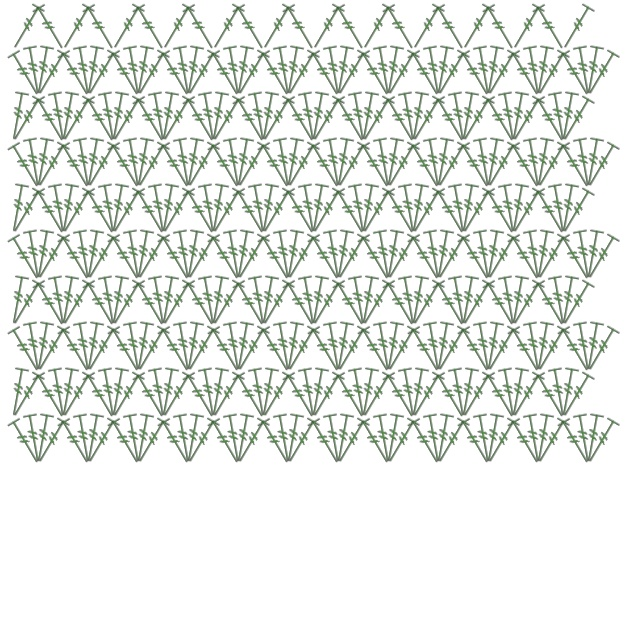fan: (6, 1, 48, 55), (30, 1, 72, 55), (56, 1, 98, 55), (80, 1, 122, 55), (106, 1, 148, 55), (130, 1, 172, 55), (156, 1, 198, 55), (180, 1, 222, 55), (206, 1, 248, 55), (230, 1, 272, 55), (256, 1, 298, 55), (280, 1, 322, 55), (306, 1, 348, 55), (330, 1, 372, 55), (356, 1, 398, 55), (380, 1, 422, 55), (406, 1, 448, 55), (430, 1, 472, 55), (456, 1, 498, 55), (480, 1, 522, 55), (506, 1, 548, 55), (530, 1, 572, 55), (556, 1, 598, 55), (5, 47, 47, 101), (31, 47, 73, 101), (55, 47, 97, 101), (81, 47, 123, 101), (105, 47, 147, 101), (131, 47, 173, 101), (155, 47, 197, 101), (181, 47, 223, 101), (205, 47, 247, 101), (231, 47, 273, 101), (255, 47, 297, 101), (281, 47, 323, 101), (305, 47, 347, 101), (331, 47, 373, 101), (355, 47, 397, 101), (381, 47, 423, 101), (405, 47, 447, 101), (431, 47, 473, 101), (455, 47, 497, 101), (481, 47, 523, 101), (505, 47, 547, 101), (531, 47, 573, 101), (555, 47, 597, 101), (581, 47, 623, 101), (6, 93, 48, 147), (30, 93, 72, 147), (56, 93, 98, 147), (80, 93, 122, 147), (106, 93, 148, 147), (130, 93, 172, 147), (156, 93, 198, 147), (180, 93, 222, 147), (206, 93, 248, 147), (230, 93, 272, 147), (256, 93, 298, 147), (280, 93, 322, 147), (306, 93, 348, 147), (330, 93, 372, 147), (356, 93, 398, 147), (380, 93, 422, 147), (406, 93, 448, 147), (430, 93, 472, 147), (456, 93, 498, 147), (480, 93, 522, 147), (506, 93, 548, 147), (530, 93, 572, 147), (556, 93, 598, 147), (5, 139, 47, 193), (31, 139, 73, 193), (55, 139, 97, 193), (81, 139, 123, 193), (105, 139, 147, 193), (131, 139, 173, 193), (155, 139, 197, 193), (181, 139, 223, 193), (205, 139, 247, 193), (231, 139, 273, 193), (255, 139, 297, 193), (281, 139, 323, 193), (305, 139, 347, 193), (331, 139, 373, 193), (355, 139, 397, 193), (381, 139, 423, 193), (405, 139, 447, 193), (431, 139, 473, 193), (455, 139, 497, 193), (481, 139, 523, 193), (505, 139, 547, 193), (531, 139, 573, 193), (555, 139, 597, 193), (581, 139, 623, 193), (6, 185, 48, 239), (30, 185, 72, 239), (56, 185, 98, 239), (80, 185, 122, 239), (106, 185, 148, 239), (130, 185, 172, 239), (156, 185, 198, 239), (180, 185, 222, 239), (206, 185, 248, 239), (230, 185, 272, 239), (256, 185, 298, 239), (280, 185, 322, 239), (306, 185, 348, 239), (330, 185, 372, 239), (356, 185, 398, 239), (380, 185, 422, 239), (406, 185, 448, 239), (430, 185, 472, 239), (456, 185, 498, 239), (480, 185, 522, 239), (506, 185, 548, 239), (530, 185, 572, 239), (556, 185, 598, 239), (5, 231, 47, 285), (31, 231, 73, 285), (55, 231, 97, 285), (81, 231, 123, 285), (105, 231, 147, 285), (131, 231, 173, 285), (155, 231, 197, 285), (181, 231, 223, 285), (205, 231, 247, 285), (231, 231, 273, 285), (255, 231, 297, 285), (281, 231, 323, 285), (305, 231, 347, 285), (331, 231, 373, 285), (355, 231, 397, 285), (381, 231, 423, 285), (405, 231, 447, 285), (431, 231, 473, 285), (455, 231, 497, 285), (481, 231, 523, 285), (505, 231, 547, 285), (531, 231, 573, 285), (555, 231, 597, 285), (581, 231, 623, 285), (6, 277, 48, 331), (30, 277, 72, 331), (56, 277, 98, 331), (80, 277, 122, 331), (106, 277, 148, 331), (130, 277, 172, 331), (156, 277, 198, 331), (180, 277, 222, 331), (206, 277, 248, 331), (230, 277, 272, 331), (256, 277, 298, 331), (280, 277, 322, 331), (306, 277, 348, 331), (330, 277, 372, 331), (356, 277, 398, 331), (380, 277, 422, 331), (406, 277, 448, 331), (430, 277, 472, 331), (456, 277, 498, 331), (480, 277, 522, 331), (506, 277, 548, 331), (530, 277, 572, 331), (556, 277, 598, 331), (5, 323, 47, 377), (31, 323, 73, 377), (55, 323, 97, 377), (81, 323, 123, 377), (105, 323, 147, 377), (131, 323, 173, 377), (155, 323, 197, 377), (181, 323, 223, 377), (205, 323, 247, 377), (231, 323, 273, 377), (255, 323, 297, 377), (281, 323, 323, 377), (305, 323, 347, 377), (331, 323, 373, 377), (355, 323, 397, 377), (381, 323, 423, 377), (405, 323, 447, 377), (431, 323, 473, 377), (455, 323, 497, 377), (481, 323, 523, 377), (505, 323, 547, 377), (531, 323, 573, 377), (555, 323, 597, 377), (581, 323, 623, 377), (6, 369, 48, 423), (30, 369, 72, 423), (56, 369, 98, 423), (80, 369, 122, 423), (106, 369, 148, 423), (130, 369, 172, 423), (156, 369, 198, 423), (180, 369, 222, 423), (206, 369, 248, 423), (230, 369, 272, 423), (256, 369, 298, 423), (280, 369, 322, 423), (306, 369, 348, 423), (330, 369, 372, 423), (356, 369, 398, 423), (380, 369, 422, 423), (406, 369, 448, 423), (430, 369, 472, 423), (456, 369, 498, 423), (480, 369, 522, 423), (506, 369, 548, 423), (530, 369, 572, 423), (556, 369, 598, 423), (5, 415, 47, 469), (31, 415, 73, 469), (55, 415, 97, 469), (81, 415, 123, 469), (105, 415, 147, 469), (131, 415, 173, 469), (155, 415, 197, 469), (181, 415, 223, 469), (205, 415, 247, 469), (231, 415, 273, 469), (255, 415, 297, 469), (281, 415, 323, 469), (305, 415, 347, 469), (331, 415, 373, 469), (355, 415, 397, 469), (381, 415, 423, 469), (405, 415, 447, 469), (431, 415, 473, 469), (455, 415, 497, 469), (481, 415, 523, 469), (505, 415, 547, 469), (531, 415, 573, 469), (555, 415, 597, 469), (581, 415, 623, 469), (21, 43, 48, 98), (30, 43, 57, 98), (71, 43, 98, 98), (80, 43, 107, 98), (121, 43, 148, 98), (130, 43, 157, 98), (171, 43, 198, 98), (180, 43, 207, 98), (221, 43, 248, 98), (230, 43, 257, 98), (271, 43, 298, 98), (280, 43, 307, 98), (321, 43, 348, 98), (330, 43, 357, 98), (371, 43, 398, 98), (380, 43, 407, 98), (421, 43, 448, 98), (430, 43, 457, 98), (471, 43, 498, 98), (480, 43, 507, 98), (521, 43, 548, 98), (530, 43, 557, 98), (571, 43, 598, 98), (580, 43, 607, 98), (5, 89, 32, 144), (46, 89, 73, 144), (55, 89, 82, 144), (96, 89, 123, 144), (105, 89, 132, 144), (146, 89, 173, 144), (155, 89, 182, 144), (196, 89, 223, 144), (205, 89, 232, 144), (246, 89, 273, 144), (255, 89, 282, 144), (296, 89, 323, 144), (305, 89, 332, 144), (346, 89, 373, 144), (355, 89, 382, 144), (396, 89, 423, 144), (405, 89, 432, 144), (446, 89, 473, 144), (455, 89, 482, 144), (496, 89, 523, 144), (505, 89, 532, 144), (546, 89, 573, 144), (555, 89, 582, 144), (21, 135, 48, 190), (30, 135, 57, 190), (71, 135, 98, 190), (80, 135, 107, 190), (121, 135, 148, 190), (130, 135, 157, 190), (171, 135, 198, 190), (180, 135, 207, 190), (221, 135, 248, 190), (230, 135, 257, 190), (271, 135, 298, 190), (280, 135, 307, 190), (321, 135, 348, 190), (330, 135, 357, 190), (371, 135, 398, 190), (380, 135, 407, 190), (421, 135, 448, 190), (430, 135, 457, 190), (471, 135, 498, 190), (480, 135, 507, 190), (521, 135, 548, 190), (530, 135, 557, 190), (571, 135, 598, 190), (580, 135, 607, 190), (5, 181, 32, 236), (46, 181, 73, 236), (55, 181, 82, 236), (96, 181, 123, 236), (105, 181, 132, 236), (146, 181, 173, 236), (155, 181, 182, 236), (196, 181, 223, 236), (205, 181, 232, 236), (246, 181, 273, 236), (255, 181, 282, 236), (296, 181, 323, 236), (305, 181, 332, 236), (346, 181, 373, 236), (355, 181, 382, 236), (396, 181, 423, 236), (405, 181, 432, 236), (446, 181, 473, 236), (455, 181, 482, 236), (496, 181, 523, 236), (505, 181, 532, 236), (546, 181, 573, 236), (555, 181, 582, 236), (21, 227, 48, 282), (30, 227, 57, 282), (71, 227, 98, 282), (80, 227, 107, 282), (121, 227, 148, 282), (130, 227, 157, 282), (171, 227, 198, 282), (180, 227, 207, 282), (221, 227, 248, 282), (230, 227, 257, 282), (271, 227, 298, 282), (280, 227, 307, 282), (321, 227, 348, 282), (330, 227, 357, 282), (371, 227, 398, 282), (380, 227, 407, 282), (421, 227, 448, 282), (430, 227, 457, 282), (471, 227, 498, 282), (480, 227, 507, 282), (521, 227, 548, 282), (530, 227, 557, 282), (571, 227, 598, 282), (580, 227, 607, 282), (5, 273, 32, 328), (46, 273, 73, 328), (55, 273, 82, 328), (96, 273, 123, 328), (105, 273, 132, 328), (146, 273, 173, 328), (155, 273, 182, 328), (196, 273, 223, 328), (205, 273, 232, 328), (246, 273, 273, 328), (255, 273, 282, 328), (296, 273, 323, 328), (305, 273, 332, 328), (346, 273, 373, 328), (355, 273, 382, 328), (396, 273, 423, 328), (405, 273, 432, 328), (446, 273, 473, 328), (455, 273, 482, 328), (496, 273, 523, 328), (505, 273, 532, 328), (546, 273, 573, 328), (555, 273, 582, 328), (21, 319, 48, 374), (30, 319, 57, 374), (71, 319, 98, 374), (80, 319, 107, 374), (121, 319, 148, 374), (130, 319, 157, 374), (171, 319, 198, 374), (180, 319, 207, 374), (221, 319, 248, 374), (230, 319, 257, 374), (271, 319, 298, 374), (280, 319, 307, 374), (321, 319, 348, 374), (330, 319, 357, 374), (371, 319, 398, 374), (380, 319, 407, 374), (421, 319, 448, 374), (430, 319, 457, 374), (471, 319, 498, 374), (480, 319, 507, 374), (521, 319, 548, 374), (530, 319, 557, 374), (571, 319, 598, 374), (580, 319, 607, 374), (5, 365, 32, 420), (46, 365, 73, 420), (55, 365, 82, 420), (96, 365, 123, 420), (105, 365, 132, 420), (146, 365, 173, 420), (155, 365, 182, 420), (196, 365, 223, 420), (205, 365, 232, 420), (246, 365, 273, 420), (255, 365, 282, 420), (296, 365, 323, 420), (305, 365, 332, 420), (346, 365, 373, 420), (355, 365, 382, 420), (396, 365, 423, 420), (405, 365, 432, 420), (446, 365, 473, 420), (455, 365, 482, 420), (496, 365, 523, 420), (505, 365, 532, 420), (546, 365, 573, 420), (555, 365, 582, 420), (21, 411, 48, 466), (30, 411, 57, 466), (71, 411, 98, 466), (80, 411, 107, 466), (121, 411, 148, 466), (130, 411, 157, 466), (171, 411, 198, 466), (180, 411, 207, 466), (221, 411, 248, 466), (230, 411, 257, 466), (271, 411, 298, 466), (280, 411, 307, 466), (321, 411, 348, 466), (330, 411, 357, 466), (371, 411, 398, 466), (380, 411, 407, 466), (421, 411, 448, 466), (430, 411, 457, 466), (471, 411, 498, 466), (480, 411, 507, 466), (521, 411, 548, 466), (530, 411, 557, 466), (571, 411, 598, 466), (580, 411, 607, 466)
